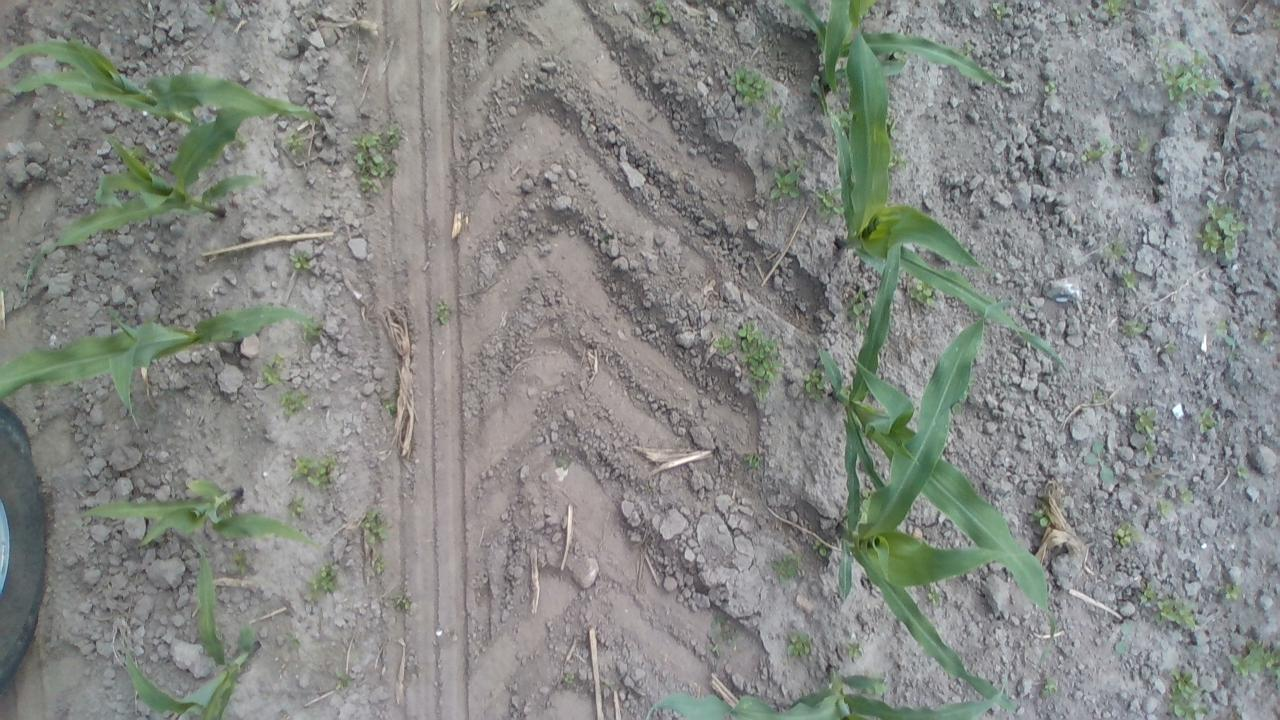Maize: (817, 243, 1059, 637), (812, 32, 1070, 379), (836, 305, 1020, 712), (24, 110, 262, 298), (0, 303, 319, 414), (0, 40, 315, 128), (123, 534, 259, 720), (782, 0, 1008, 91), (646, 665, 1004, 720), (77, 478, 321, 546)
Weeds: (1150, 35, 1218, 113), (351, 118, 406, 195), (736, 318, 784, 400), (1194, 198, 1248, 260), (1140, 582, 1197, 632), (1228, 638, 1280, 687), (1168, 669, 1208, 720), (728, 64, 772, 106), (768, 158, 805, 202), (291, 455, 336, 490), (1086, 440, 1116, 488), (766, 549, 806, 585), (847, 287, 875, 335), (636, 0, 674, 34), (816, 186, 846, 221), (308, 564, 337, 600), (906, 274, 938, 306), (362, 510, 388, 546), (280, 386, 310, 417), (1112, 520, 1144, 549), (800, 368, 826, 402), (262, 354, 288, 386), (284, 127, 308, 158), (1080, 138, 1108, 164), (786, 630, 811, 658), (1134, 404, 1156, 434), (764, 102, 787, 130), (1112, 622, 1130, 656), (1100, 238, 1129, 259), (1118, 318, 1148, 338), (810, 536, 834, 561), (713, 333, 736, 359), (1198, 406, 1219, 434), (302, 316, 324, 342), (232, 550, 253, 576), (1216, 319, 1236, 346), (886, 150, 910, 172), (833, 103, 851, 132), (1102, 0, 1130, 18), (1158, 494, 1176, 519), (290, 250, 310, 271), (1028, 509, 1050, 528), (288, 495, 306, 518), (334, 670, 354, 690), (859, 486, 870, 521), (390, 591, 410, 610), (1120, 269, 1138, 290), (435, 300, 449, 326), (750, 448, 770, 466), (847, 641, 866, 659), (1040, 677, 1056, 698), (886, 108, 898, 135), (207, 0, 226, 17), (1225, 583, 1242, 602), (1259, 81, 1276, 100), (286, 632, 304, 649), (232, 136, 251, 152), (383, 397, 398, 417), (991, 0, 1008, 17), (1256, 328, 1274, 344), (958, 41, 974, 59), (928, 589, 944, 607), (1179, 487, 1195, 504), (144, 159, 162, 174), (128, 146, 146, 161), (1144, 437, 1156, 459), (887, 49, 907, 62), (105, 308, 123, 322), (1092, 389, 1108, 404), (1138, 134, 1149, 154), (1044, 81, 1058, 96), (372, 558, 385, 574), (563, 671, 576, 686), (710, 641, 721, 656), (1236, 466, 1248, 477), (1167, 344, 1177, 353), (0, 288, 10, 294)
